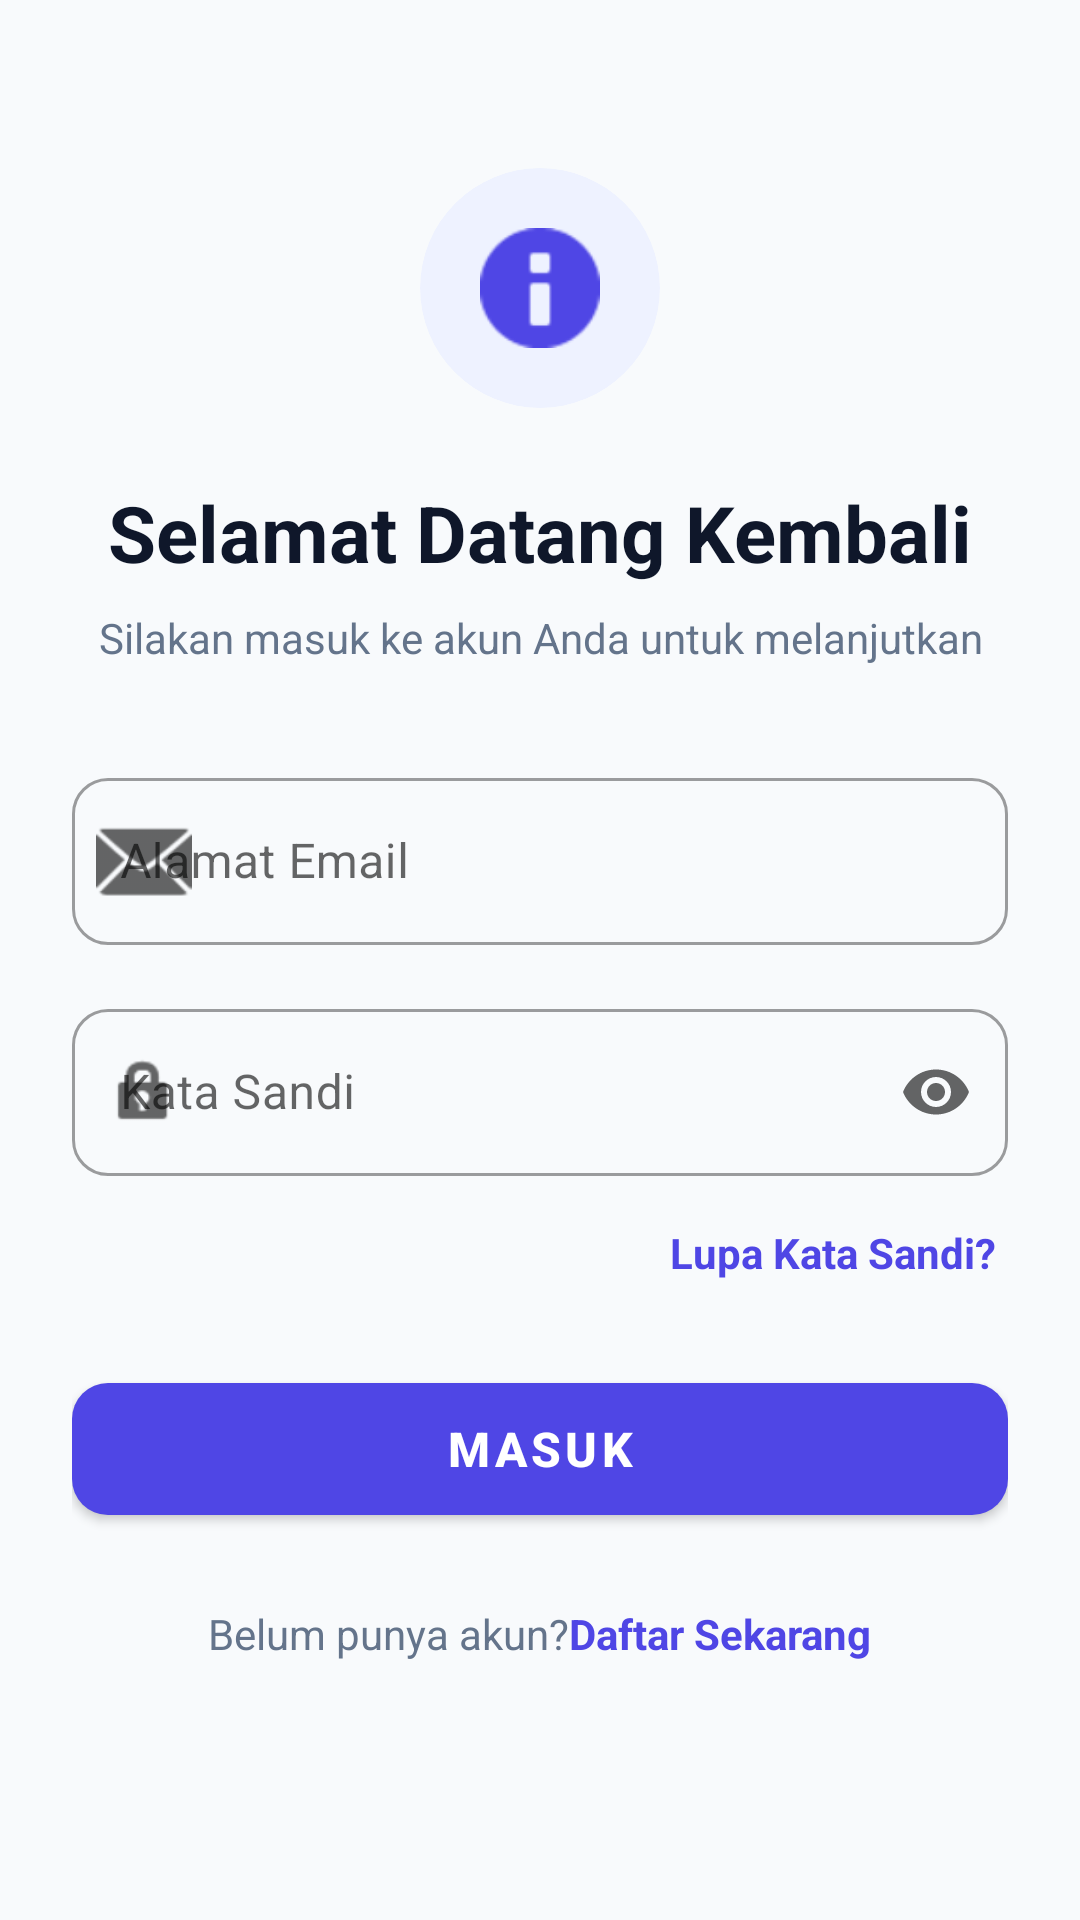

Named icons in this screenshot (1080w x 1920h) and their centers, (x,y):
info: (540,288)
